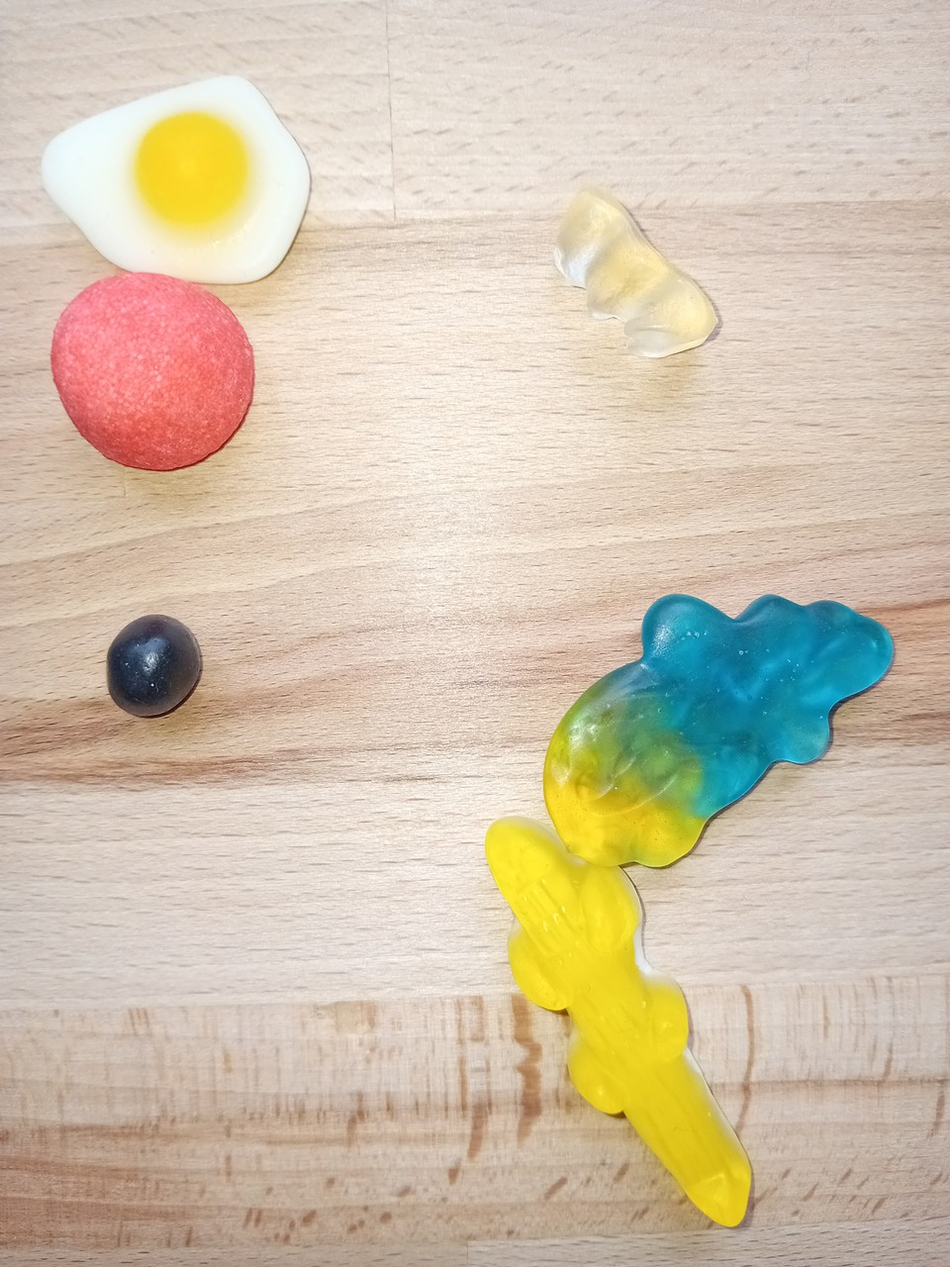crocodile_jaune: (475, 813, 759, 1236)
dragibus_noir: (103, 605, 209, 718)
oeuf_oeuf: (29, 72, 315, 288)
ourson_blanc: (547, 178, 720, 371)
schtroumpf_bleu-jaune: (542, 583, 901, 873)
tagada_fraise: (41, 268, 264, 481)
